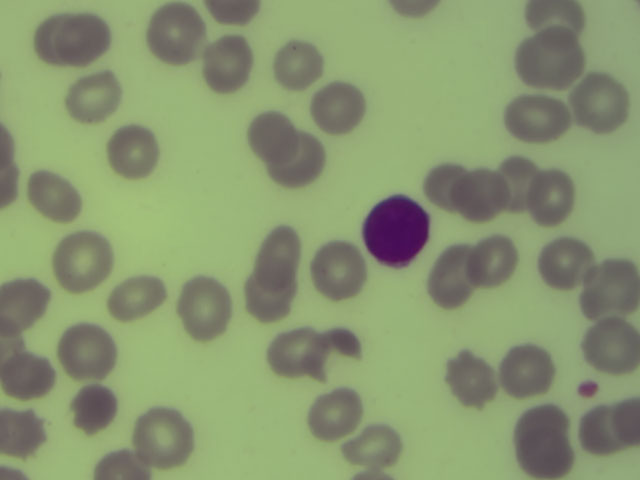Platlets: (580, 380, 599, 398)
RBC: (515, 33, 585, 89), (269, 330, 336, 385), (139, 407, 197, 470), (312, 238, 369, 300), (56, 324, 120, 379), (58, 228, 111, 294), (147, 5, 206, 64), (55, 10, 115, 68), (27, 169, 89, 224), (183, 275, 234, 341), (267, 130, 326, 186), (426, 244, 473, 312), (305, 387, 361, 444), (468, 234, 520, 295), (445, 350, 500, 407), (576, 78, 630, 134), (505, 96, 572, 141), (108, 272, 167, 323), (586, 321, 640, 375), (203, 36, 254, 93), (68, 71, 124, 122), (501, 344, 555, 396), (3, 275, 47, 338), (111, 127, 160, 182), (514, 436, 576, 479), (539, 240, 590, 291), (5, 409, 53, 461), (533, 167, 575, 226), (4, 351, 53, 400), (249, 270, 294, 323), (250, 114, 298, 163), (319, 86, 367, 135), (591, 261, 638, 310), (261, 227, 296, 292), (278, 44, 325, 92), (73, 385, 118, 435), (463, 171, 507, 221), (351, 425, 402, 466), (584, 408, 625, 457), (524, 1, 590, 31), (519, 404, 567, 445), (497, 159, 534, 211), (34, 15, 69, 65), (428, 164, 466, 210), (99, 449, 148, 480), (202, 2, 260, 25), (333, 326, 365, 361), (617, 396, 640, 443), (386, 1, 442, 19), (1, 159, 19, 207), (3, 331, 25, 363), (585, 294, 611, 319), (2, 122, 15, 163), (342, 470, 392, 480), (2, 466, 30, 480)
WBC: (363, 193, 429, 267)
